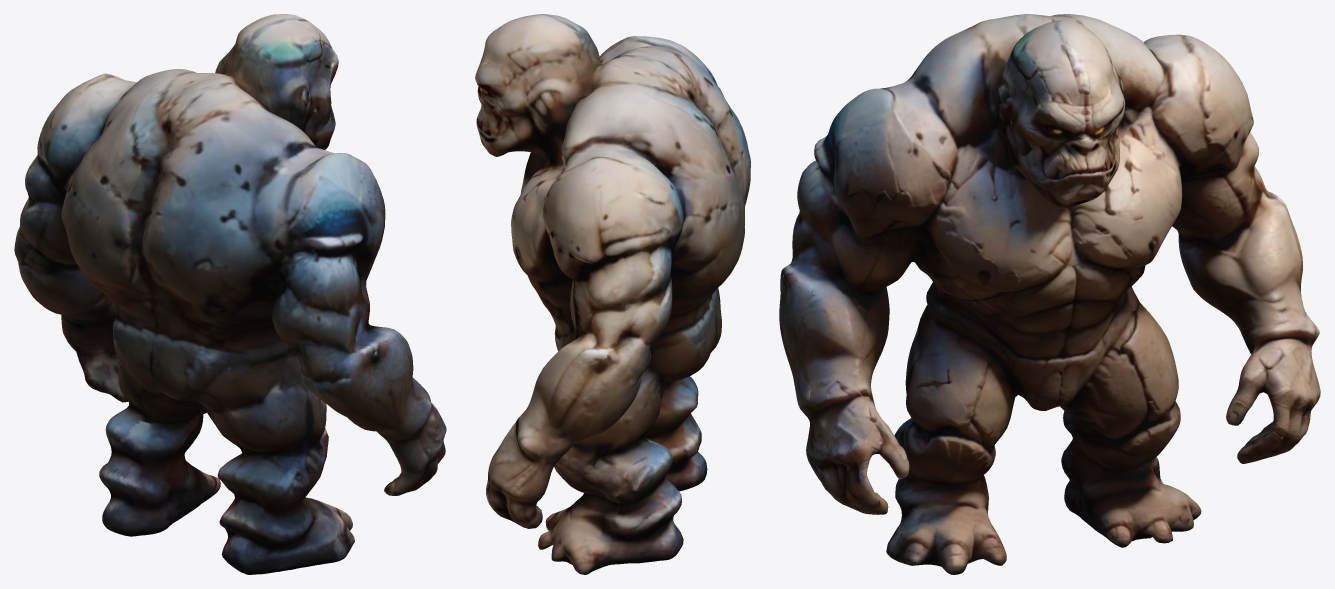
Rendered from rendered_model_15.glb.
3 views of the same model, side by side, from view 1: azimuth 30°, elevation 25°; view 2: azimuth 150°, elevation 25°; view 3: azimuth 270°, elevation 25° (orthographic). The views are drawn at different scales.
Visible parts, largest first — view 1: geometry_0; view 2: geometry_0; view 3: geometry_0.
Boxes of the visible parts, x1,y1,x2,y2 form: geometry_0: [14, 14, 446, 574]; geometry_0: [475, 14, 750, 574]; geometry_0: [779, 14, 1320, 574].
Bounding box in the file's own units: 0.4727 × 0.8145 × 0.731.
Materials: 1 (1 with a texture image).
